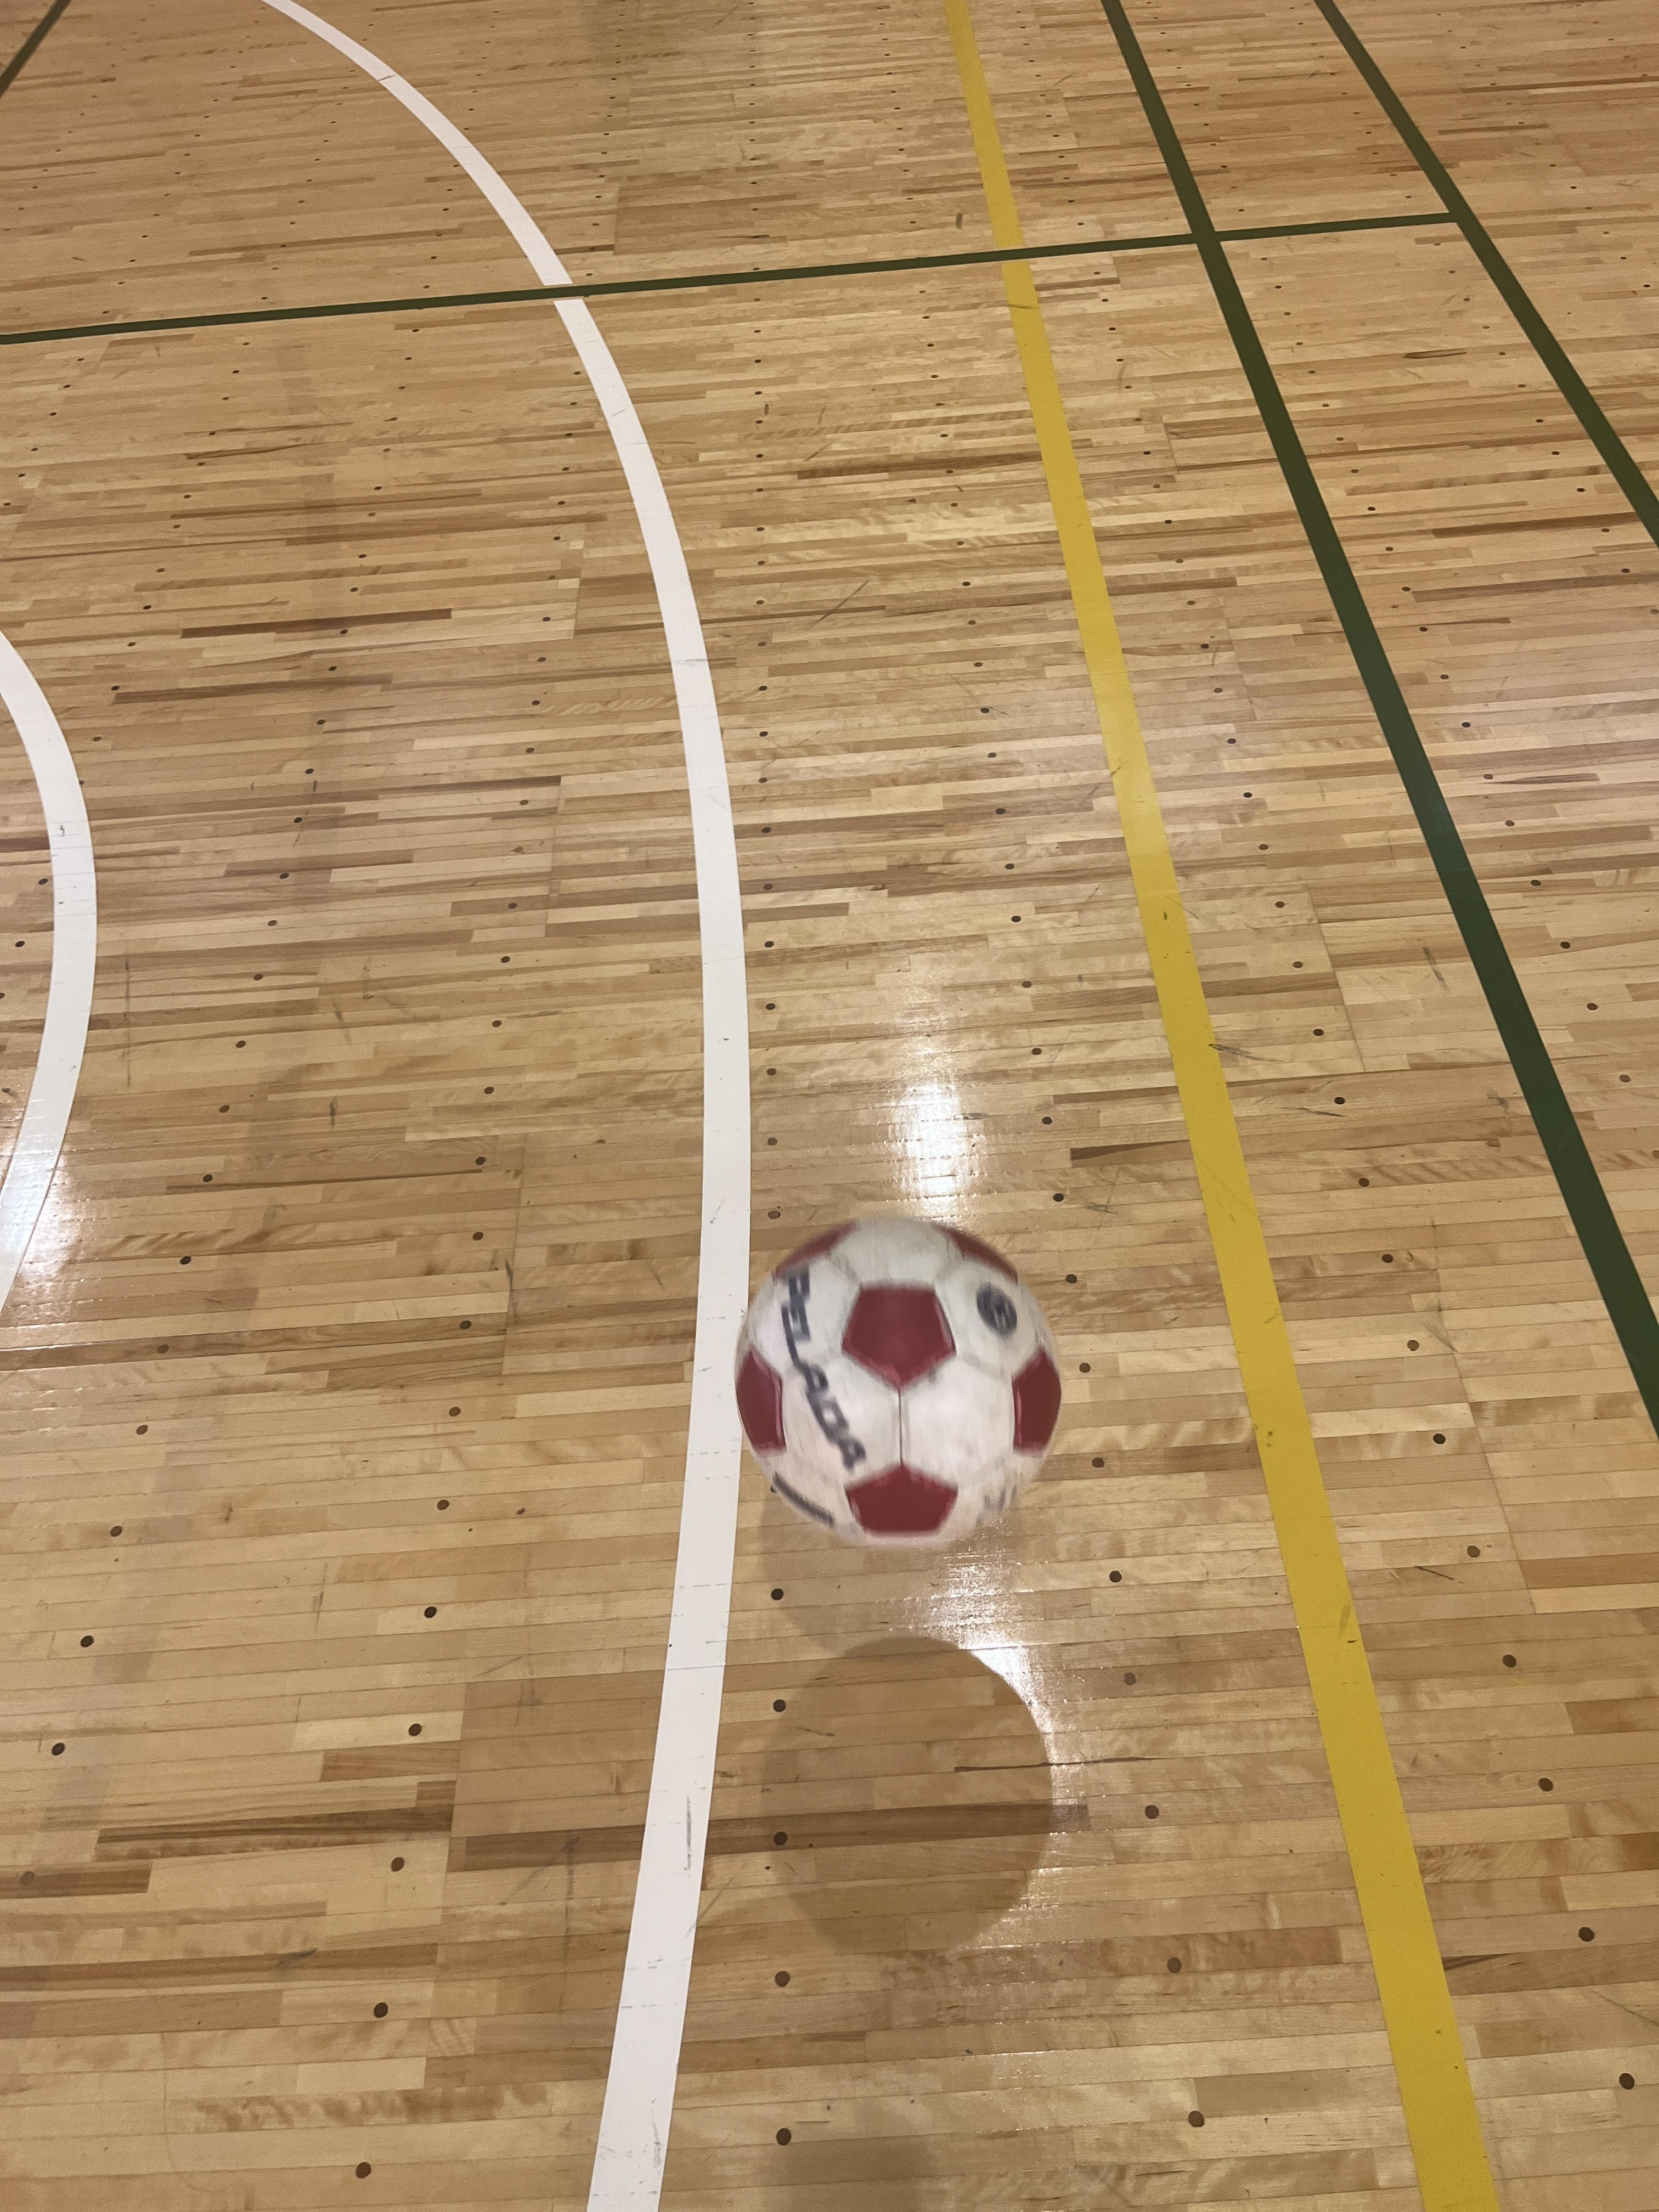Sports-Ball: (749, 1240, 1075, 1543)
